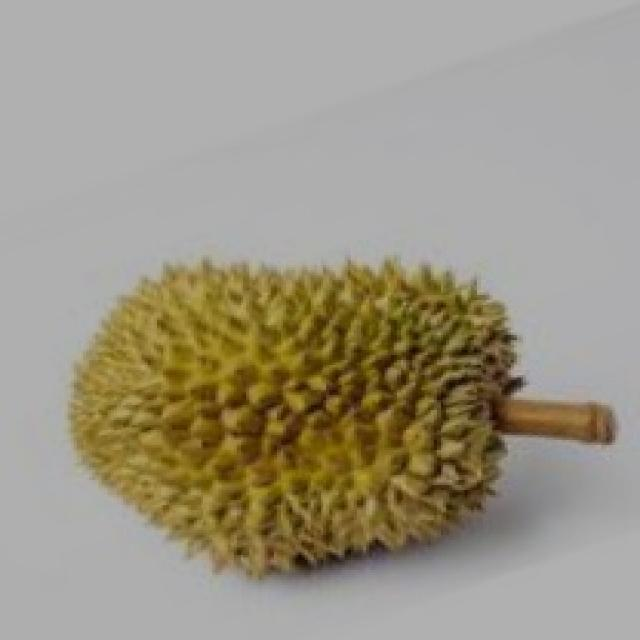fruit: (34, 222, 378, 628), (209, 225, 548, 617)
